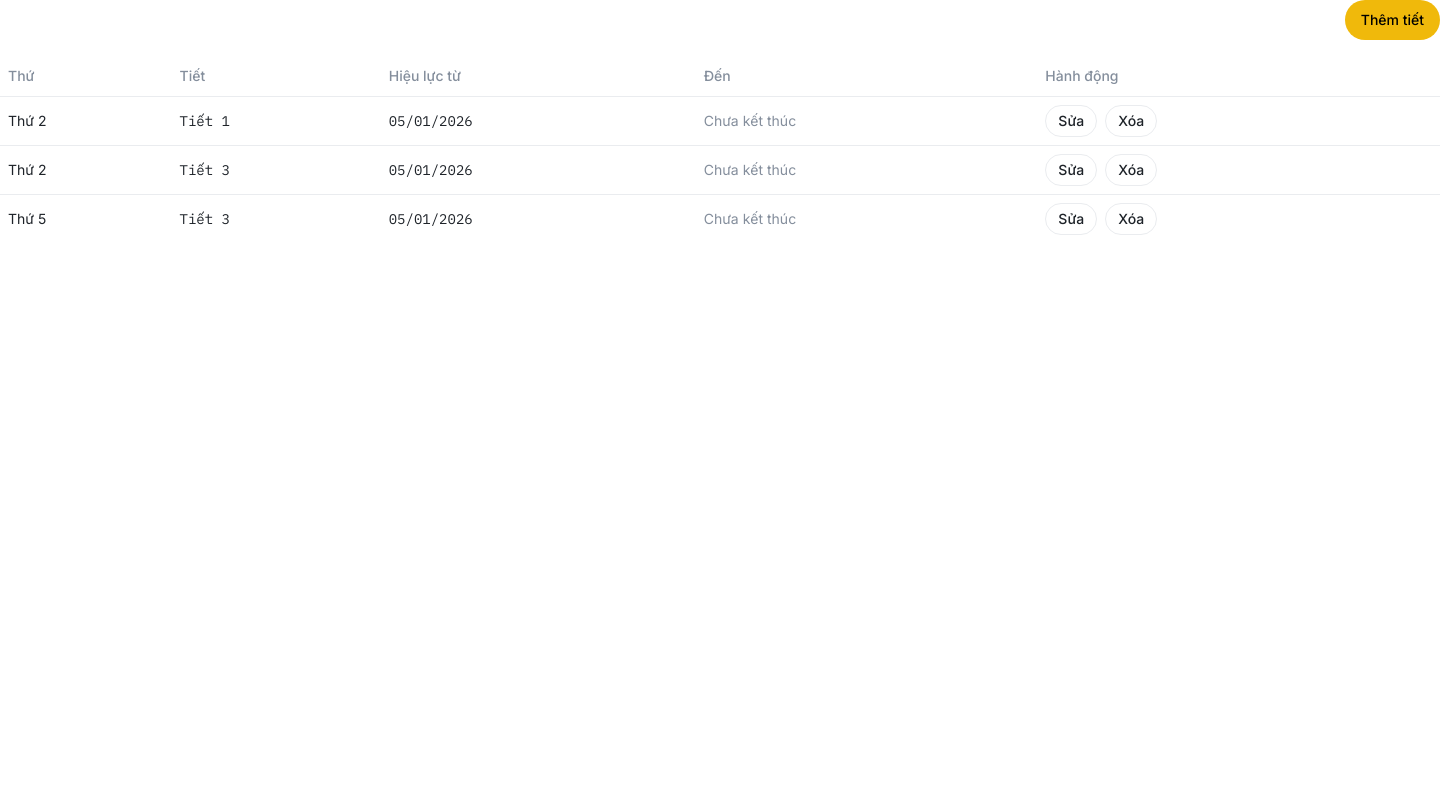
Test case: xóa tiết › Huỷ không gọi API và đóng hộp thoại
The width and height of the screenshot is (1440, 810).
Click the button "Xóa" in the row of "Tiết 1". click: click(1131, 120)
box: [1105,104,1157,136]
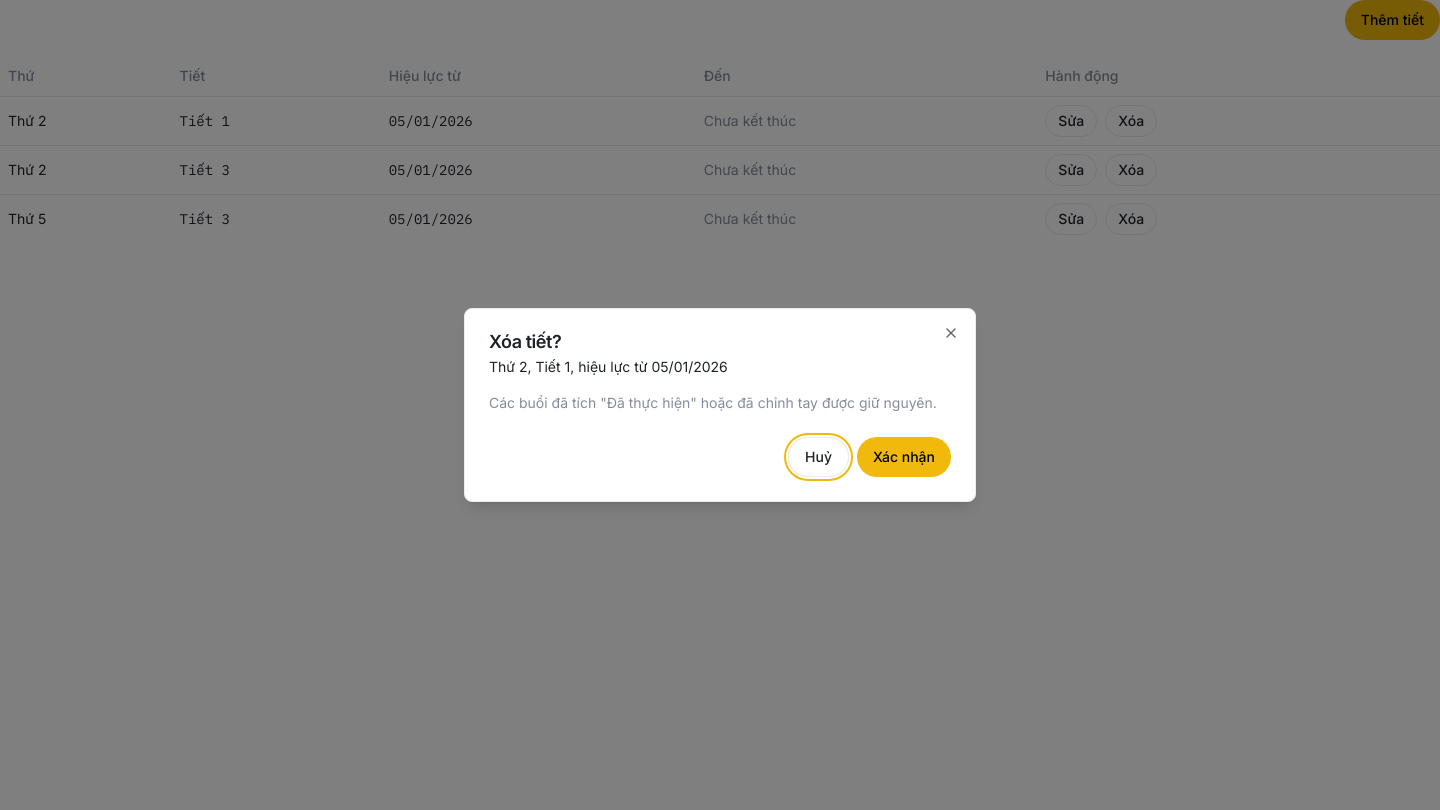
Click the button "Huỷ". click: click(819, 457)
box: [788,437,849,477]
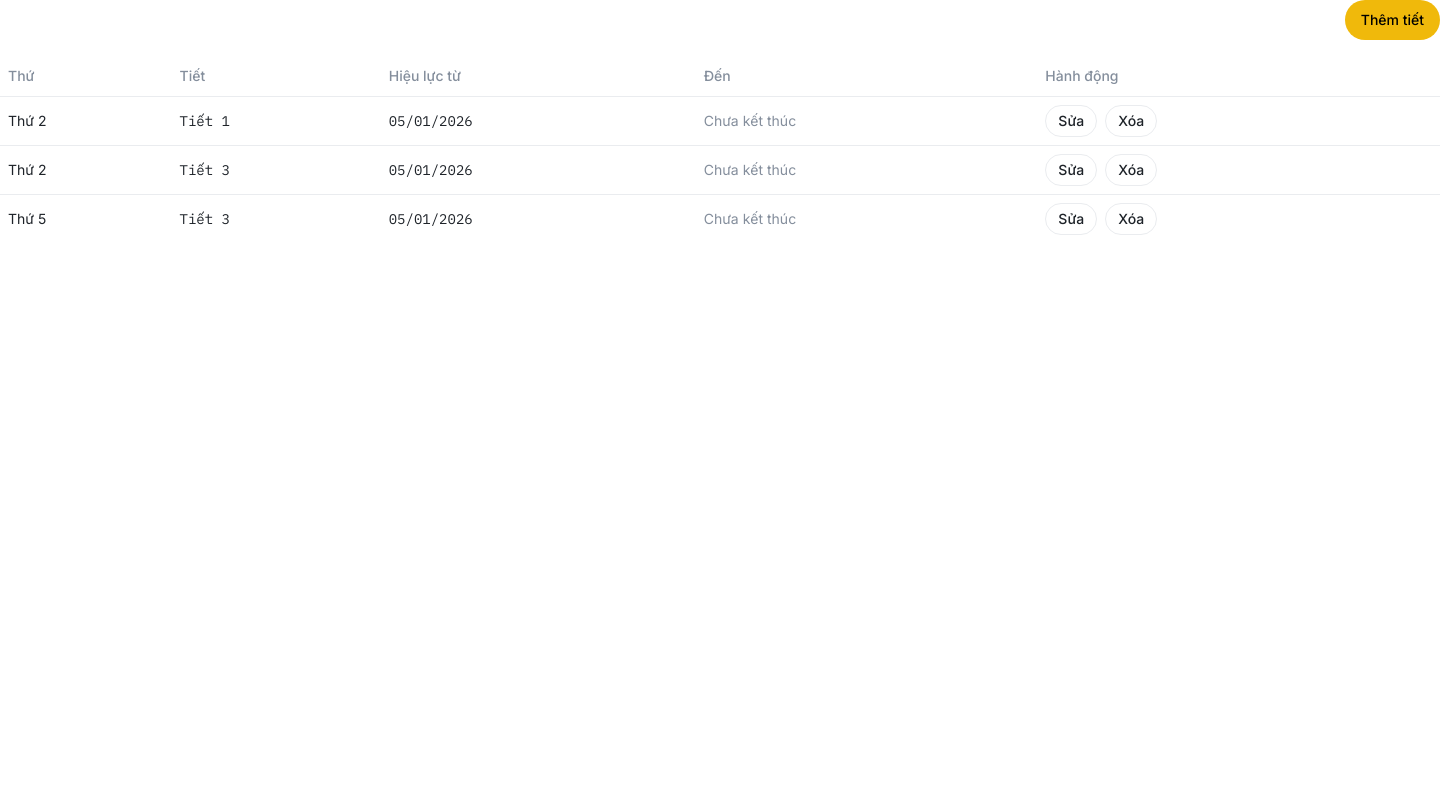
Expected: the dialog is gone
